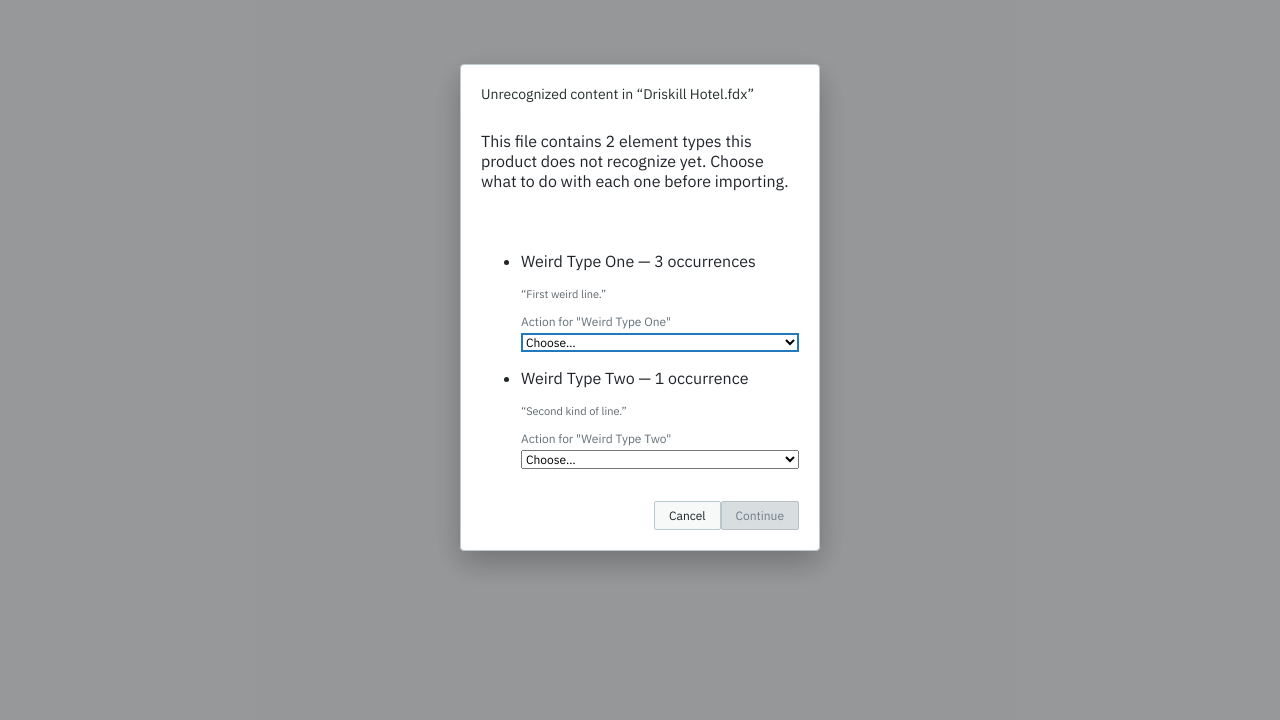
it: FdxUnknownTypesDialog › keeps Continue disabled until every listed type has a decision, then enables it
The image size is (1280, 720).
Expected: the button "Continue" is disabled, x1=721 y1=501 x2=799 y2=530
Select "Skip (leave out of the import)" in the dropdown labelled "Action for \"Weird Type One\"" at [660, 342], box x1=521 y1=333 x2=799 y2=352
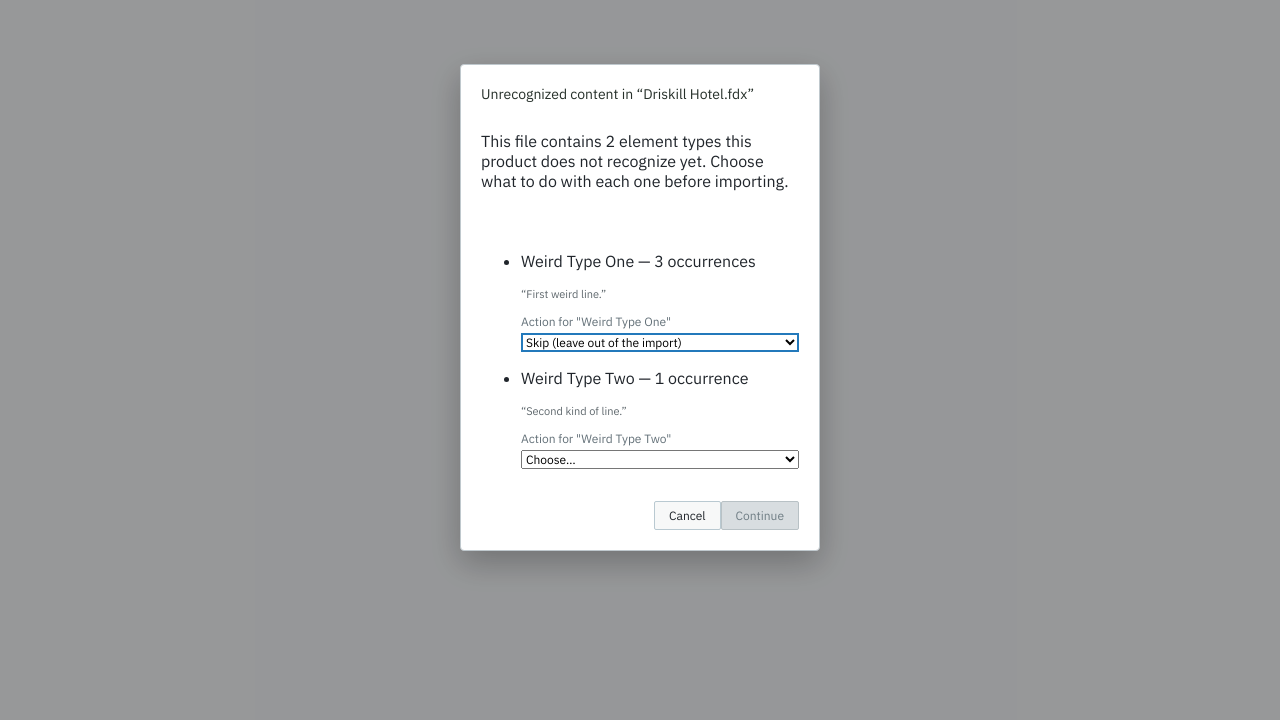
Expected: the button "Continue" is disabled, x1=721 y1=501 x2=799 y2=530
Select "Map to Dialogue" in the dropdown labelled "Action for \"Weird Type Two\"" at [660, 459], box x1=521 y1=450 x2=799 y2=469
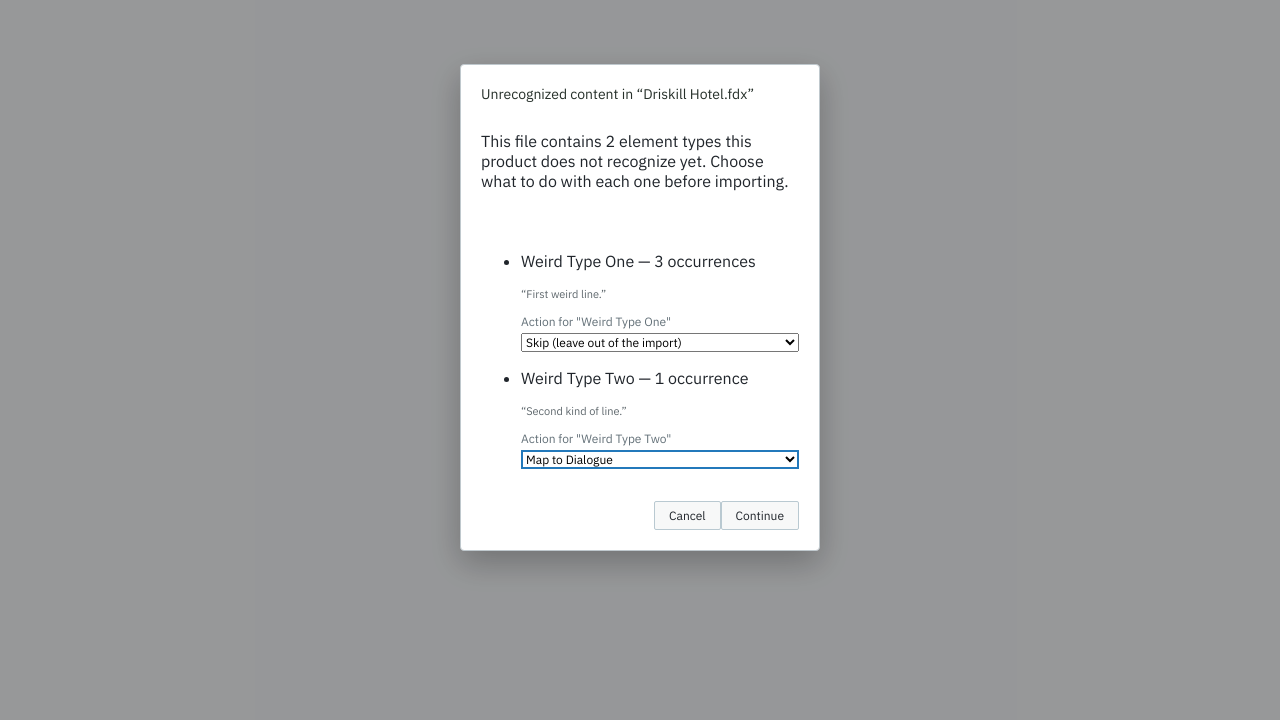
Result: the button "Continue" is enabled at x1=721 y1=501 x2=799 y2=530
